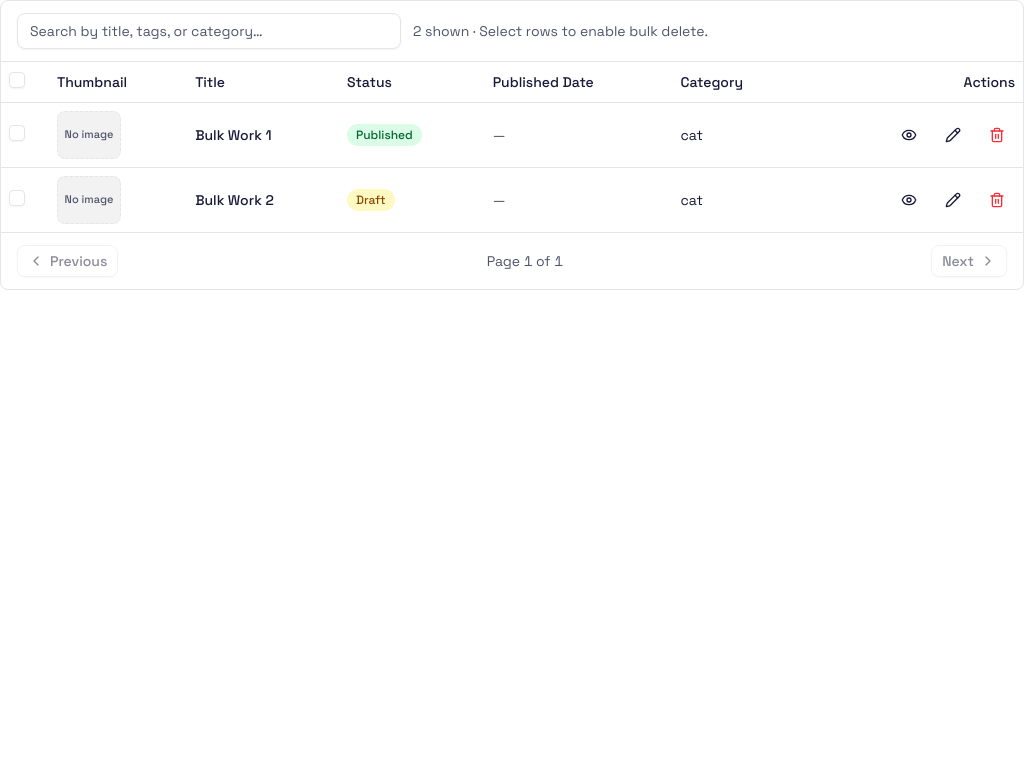
admin bulk selection tables › opens and cancels a works bulk delete without deleting rows and preserves selection
The image size is (1024, 768).
Click the checkbox named "Select Bulk Work 1": (17, 132) [9,124,25,140]
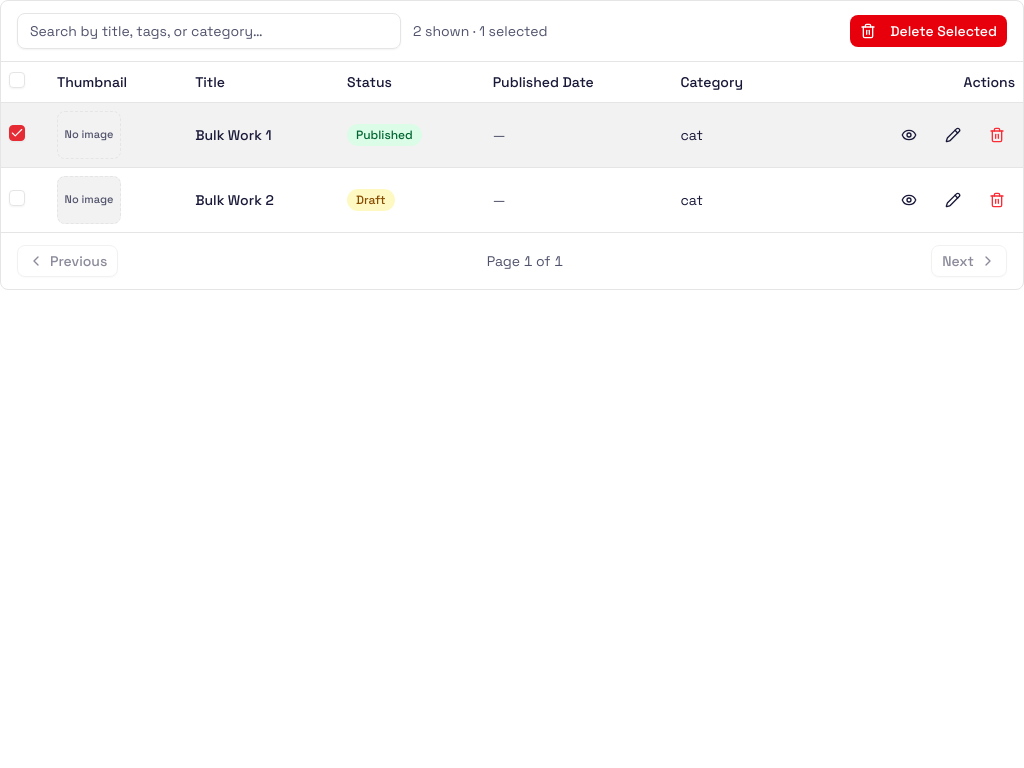
Click the checkbox named "Select Bulk Work 2": (17, 198) [9,190,25,206]
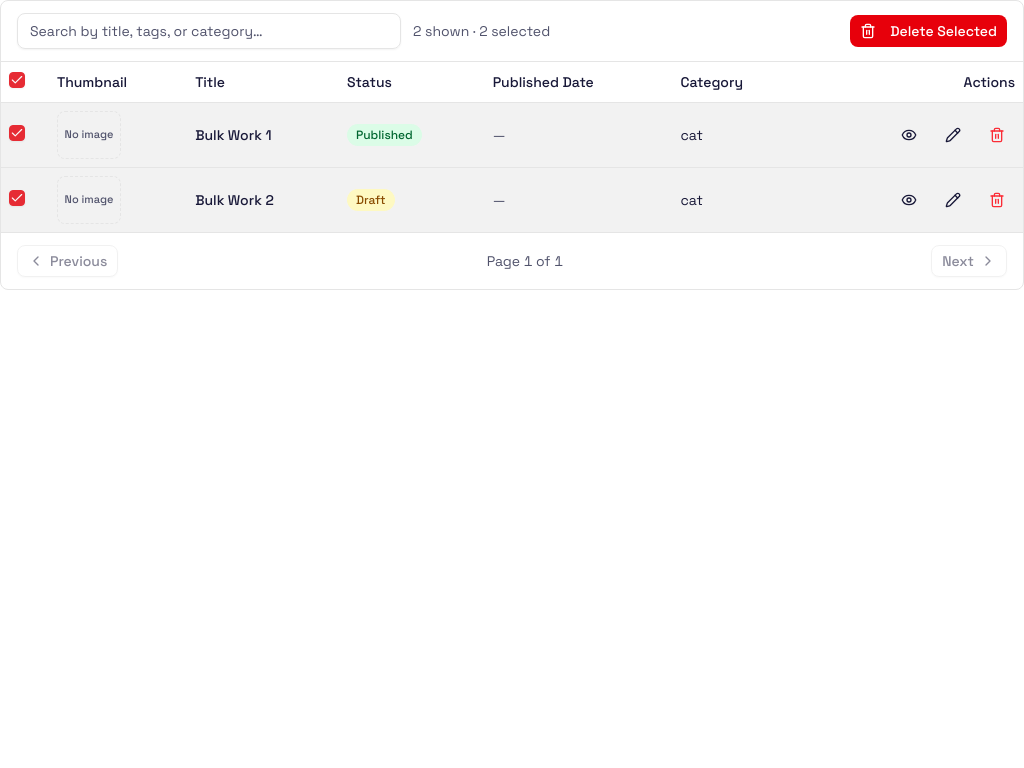
Click the button "Delete Selected": (929, 31) [850,15,1007,47]
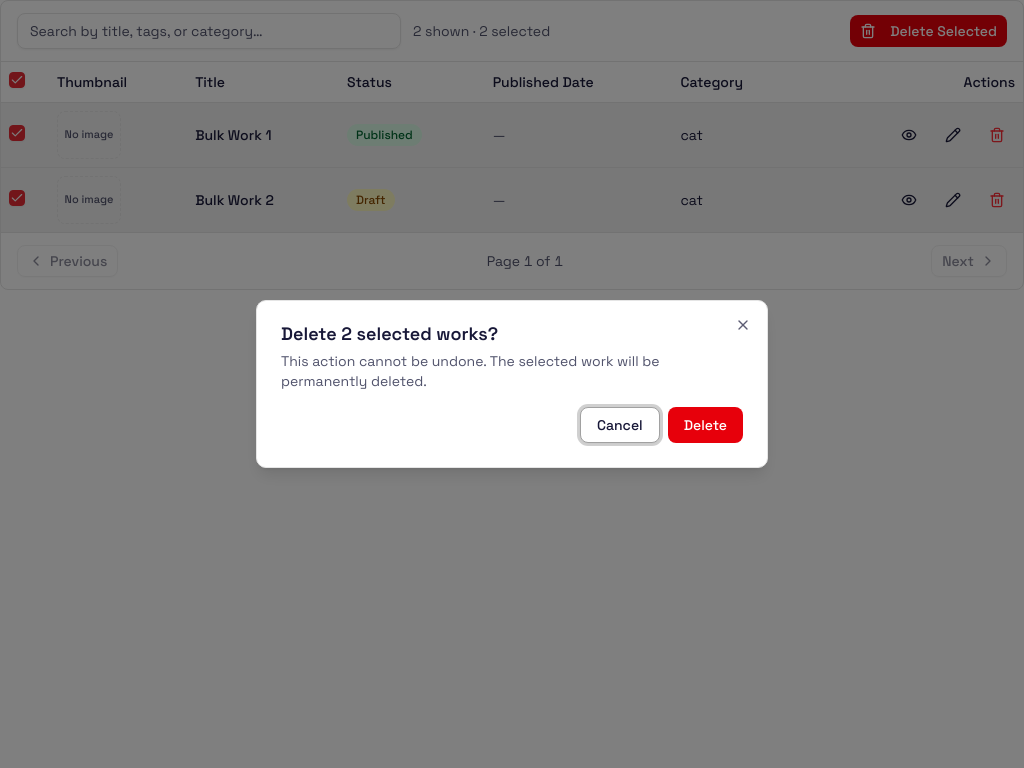
Expected: the dialog is shown, [256,300,768,468]
Click the button "Cancel": (620, 425) [580,407,660,443]
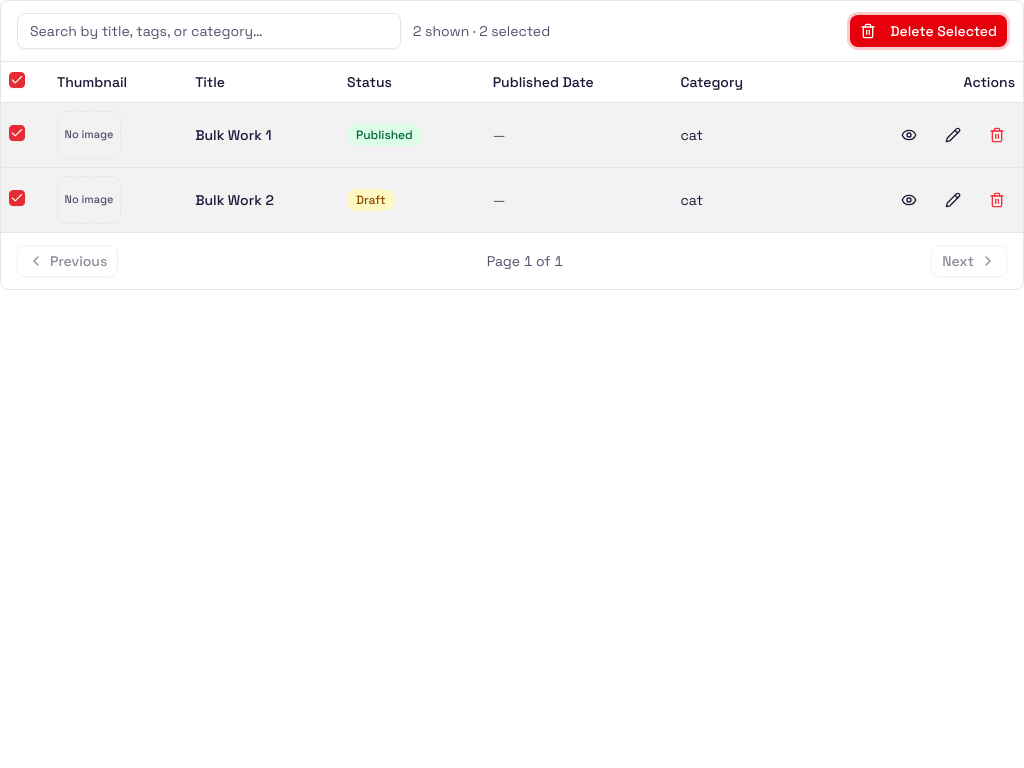
Expected: the checkbox named "Select Bulk Work 1" is checked, [9,124,25,140]
Expected: the checkbox named "Select Bulk Work 2" is checked, [9,190,25,206]
Expected: the dialog is gone
